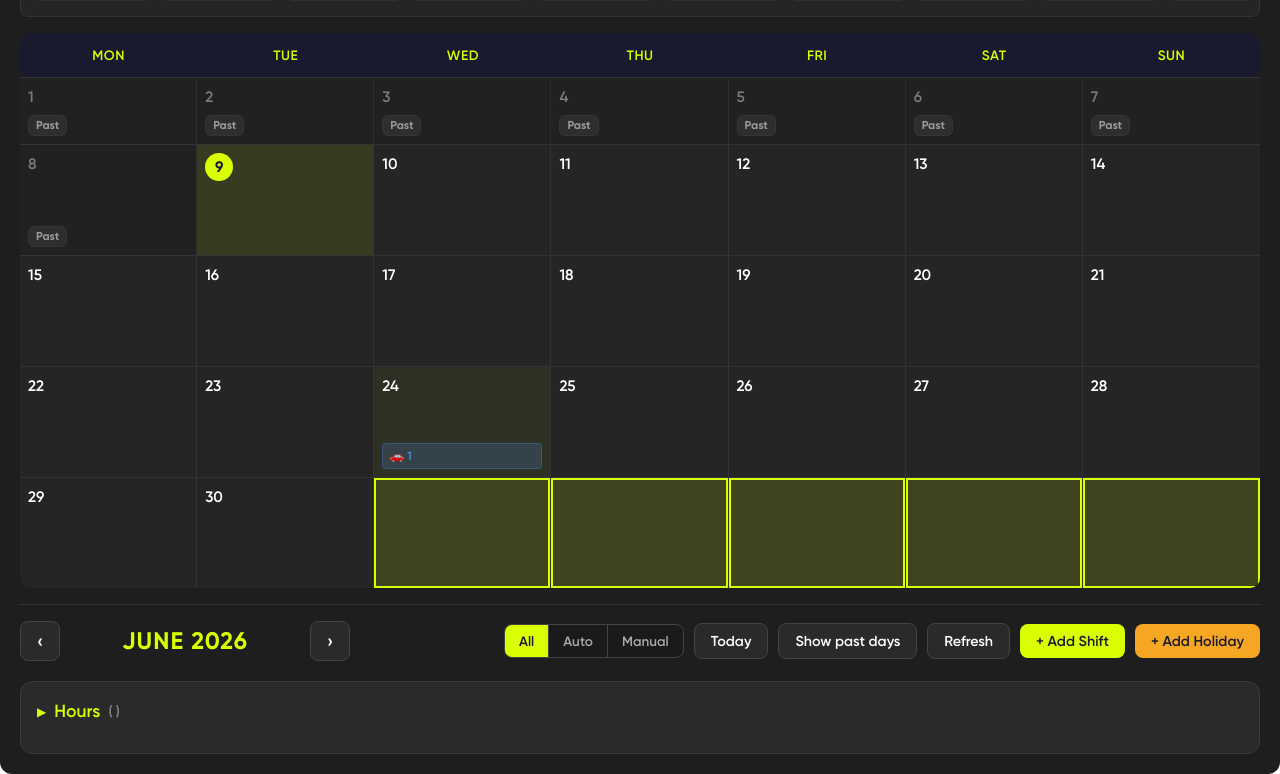
Test: RosterCalendar generate roster CTA gate › U: hides Generate roster CTA when Review is blocked by a suppressed auto shift
(page scrolled)
Click the text "24": (463, 422) [374,367,551,477]
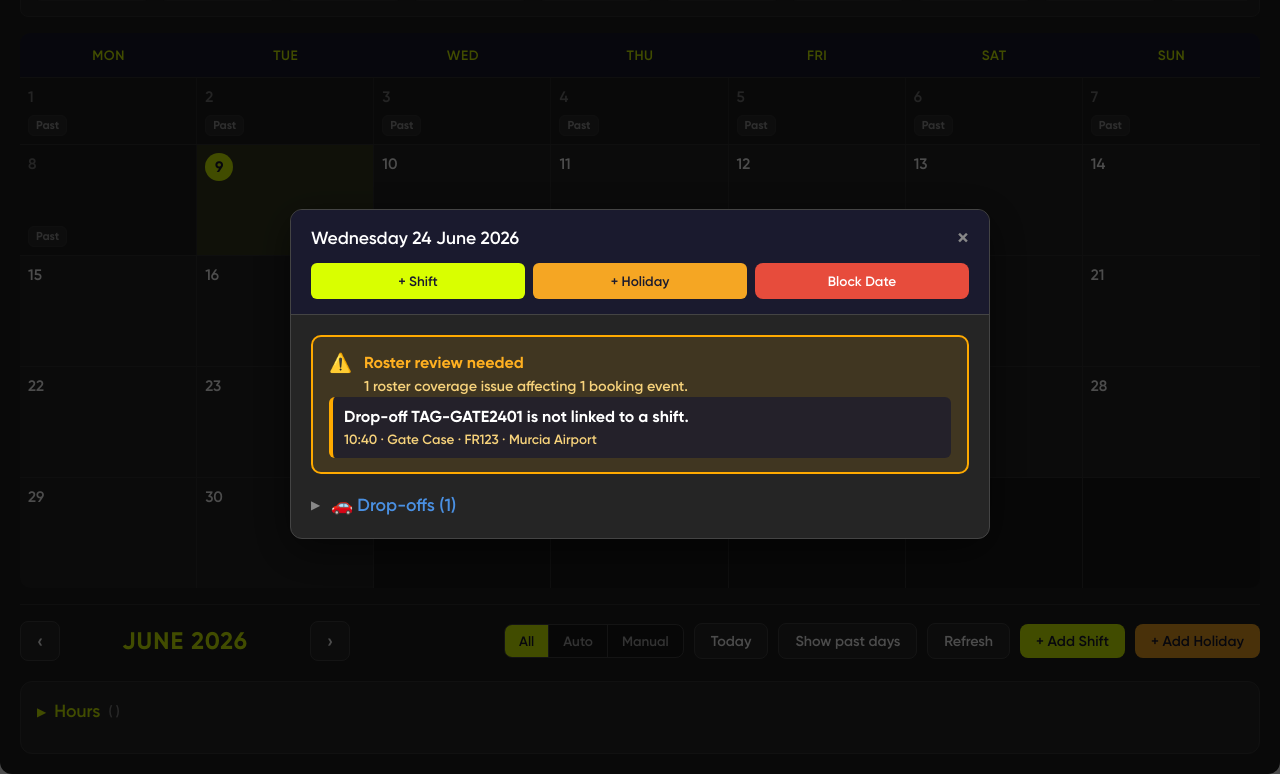
Check: the text "Roster review needed" is shown 2 times
